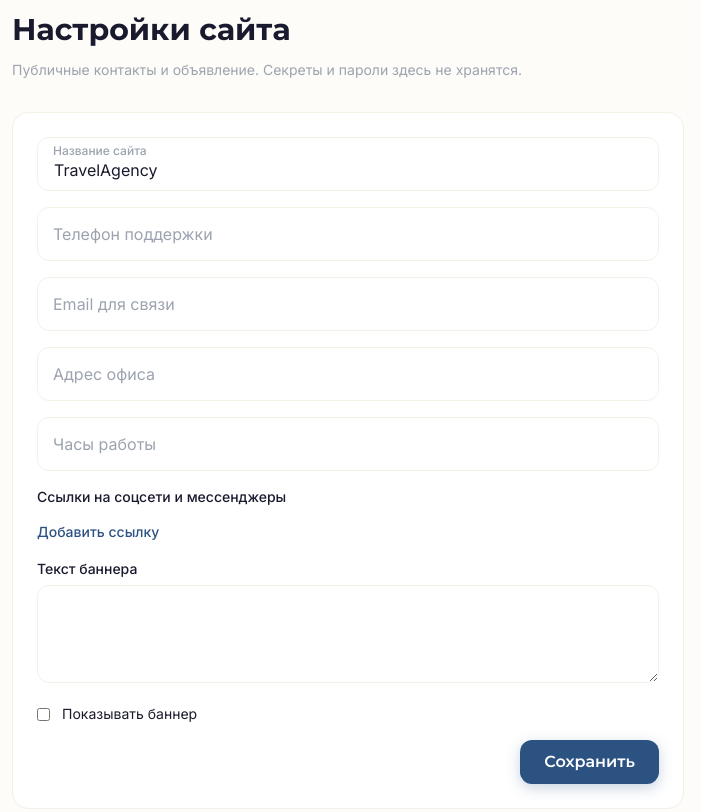
Scenario: AdminSiteSettingsPage › shows a field error and does not toast success when the phone is rejected
What coordinates should you click on to do the following:
click the button "Сохранить"
I would click on:
 (590, 762)
Its box is [520,740,659,784].
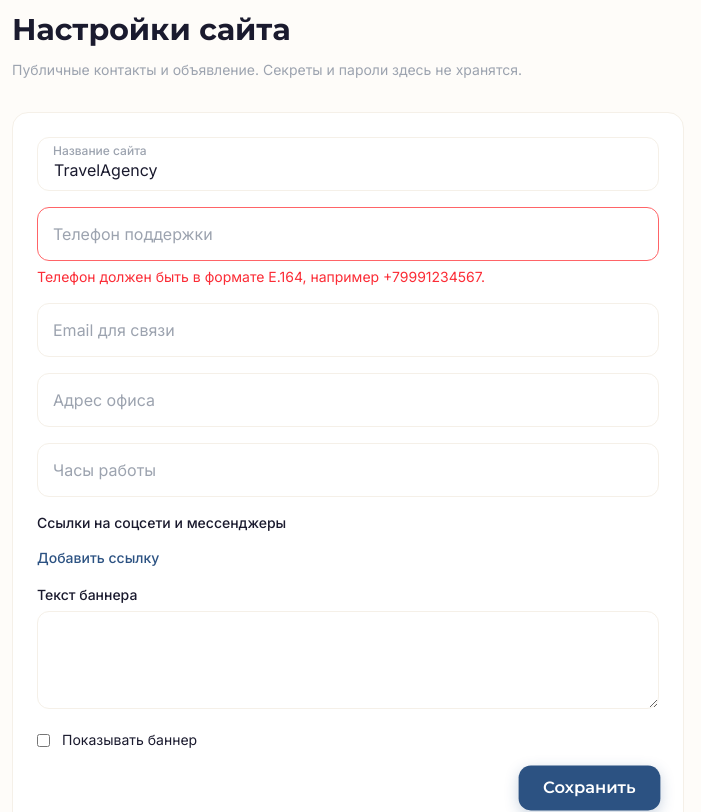
Result: the text "Телефон должен быть в формате E.164, например +79991234567." is shown at [37,268,485,285]
